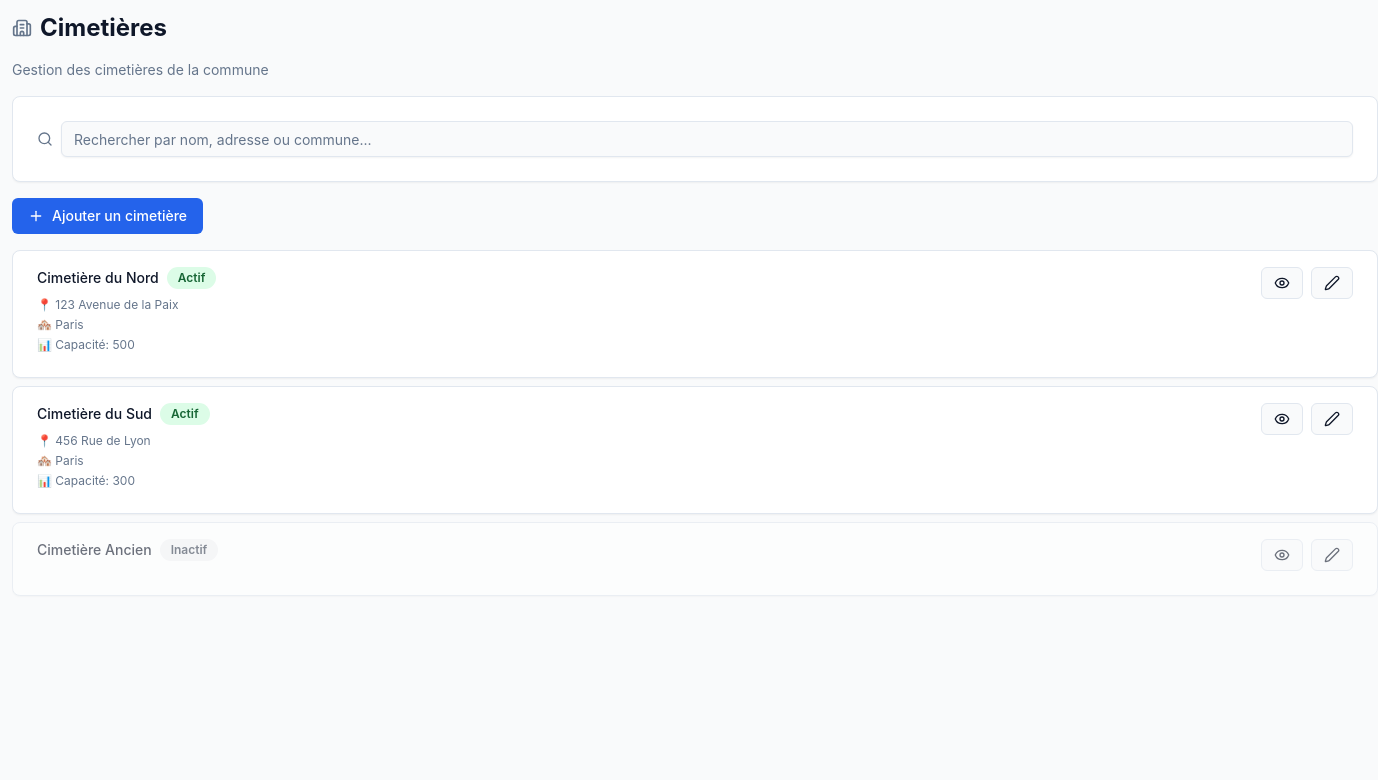
Test: CemeteriesPage › ouvre le formulaire de création au clic sur ajouter
The width and height of the screenshot is (1378, 780).
Click the button "Ajouter un cimetière" at (108, 216), box 12,198 -> 203,234
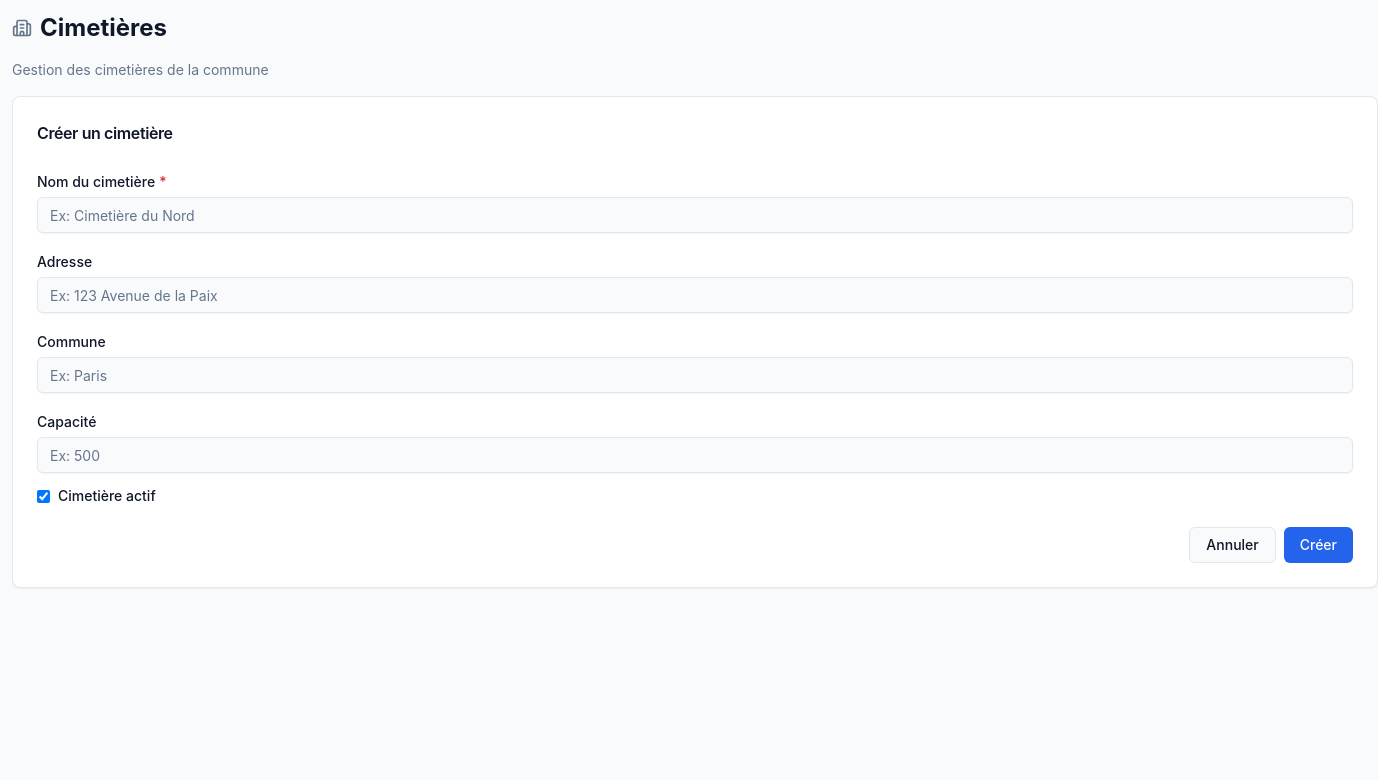
Expected: the heading "Créer un cimetière" is shown, 37,123 -> 173,143
Expected: the field with placeholder "Ex: Cimetière du Nord" is shown, 37,197 -> 1353,233
